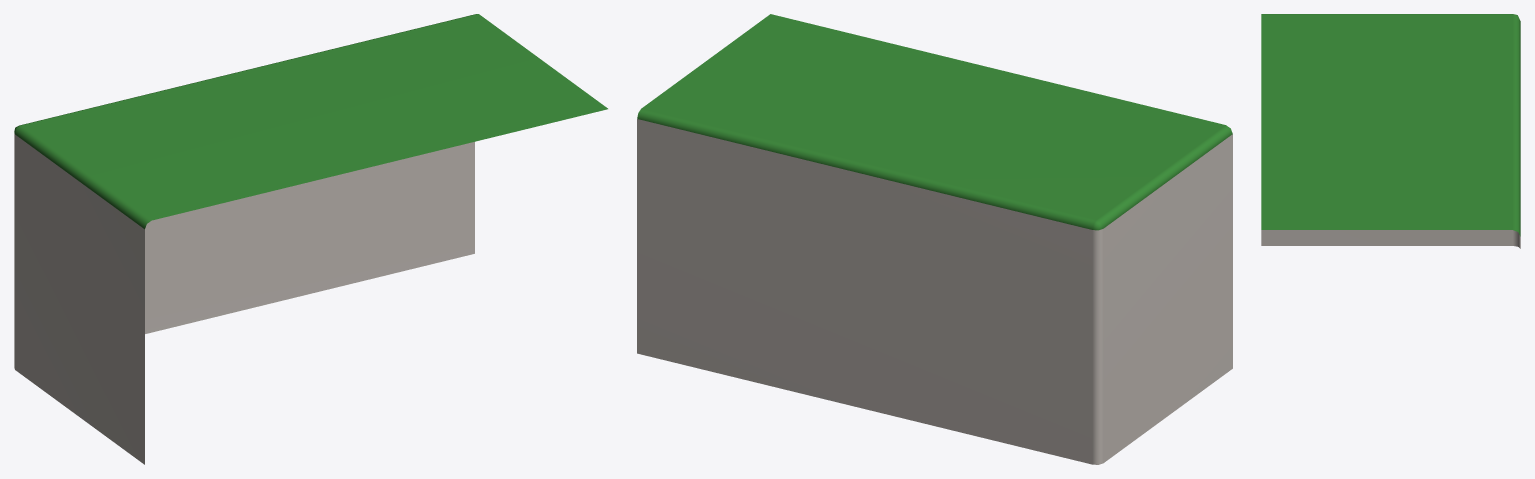
Rendered from cliff_2sided_small.fbx.
The picture shows the model from 3 angles, left to right: view 1: azimuth 30°, elevation 25°; view 2: azimuth 150°, elevation 25°; view 3: azimuth 270°, elevation 25°; orthographic projection. The views are drawn at different scales.
Parts seen in each view (by area): view 1: Cliff_02_Thin; view 2: Cliff_02_Thin; view 3: Cliff_02_Thin.
Part boxes in pixels (x1,y1,x2,y2): Cliff_02_Thin: (14, 14, 607, 464); Cliff_02_Thin: (637, 14, 1232, 464); Cliff_02_Thin: (1261, 14, 1520, 248).
Bounding box in the file's own units: 200 × 100 × 100.
